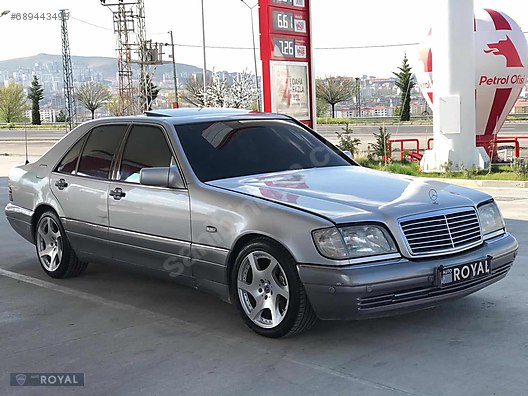m: (3, 106, 527, 337)
